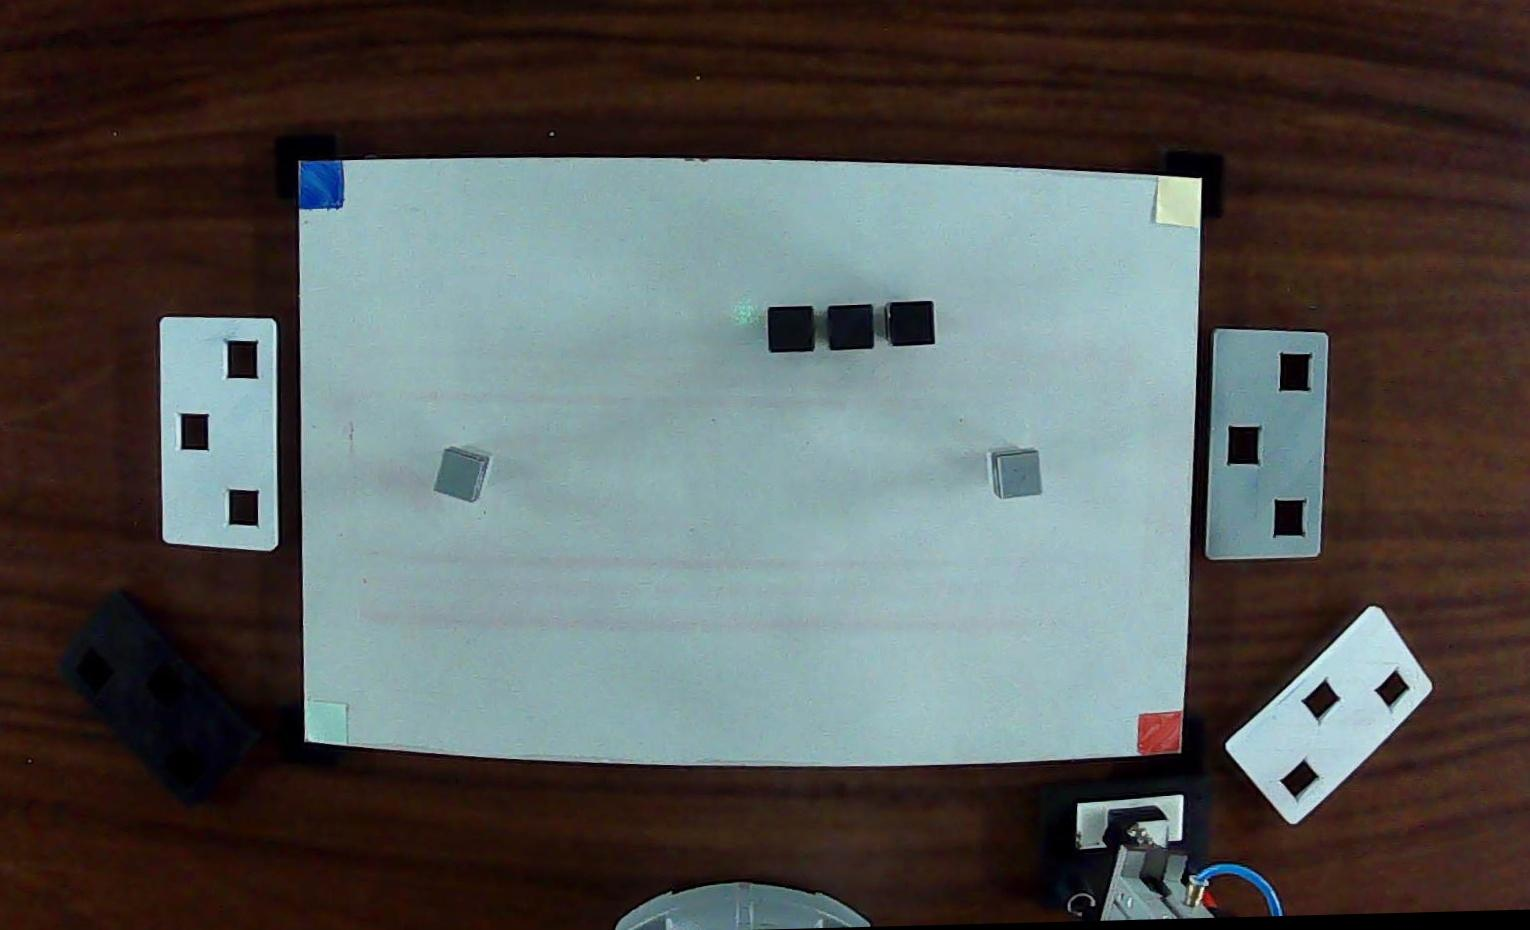pecaCinza: (431, 446, 489, 506), (989, 450, 1043, 504)
pecaPreta: (764, 302, 821, 356), (823, 302, 880, 353), (885, 298, 939, 351)
